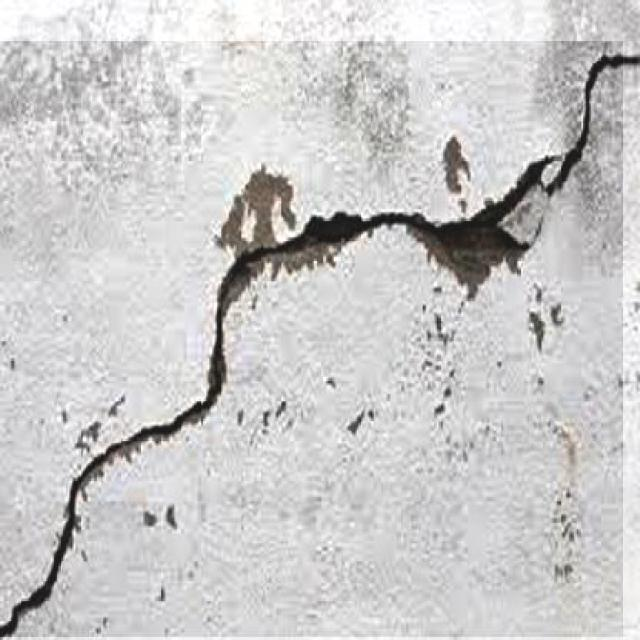Crack: (7, 181, 363, 640), (368, 42, 640, 293)
